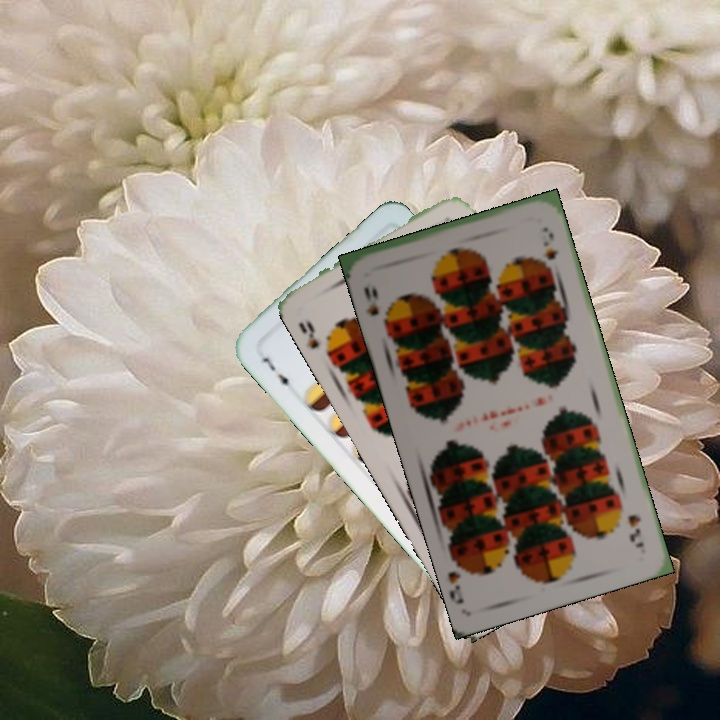E7: (258, 353, 295, 395)
S9: (294, 317, 338, 359), (360, 283, 394, 329), (624, 510, 647, 551)
